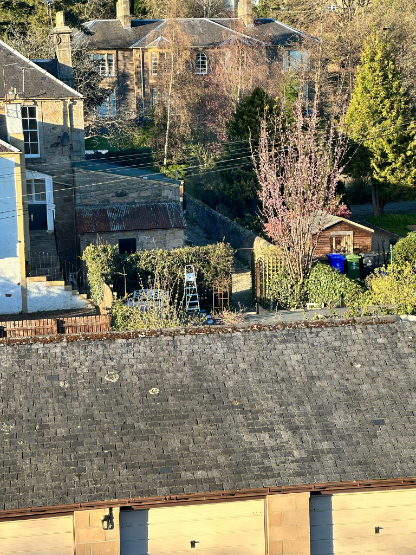tree: (243, 69, 341, 286), (348, 38, 416, 202)
